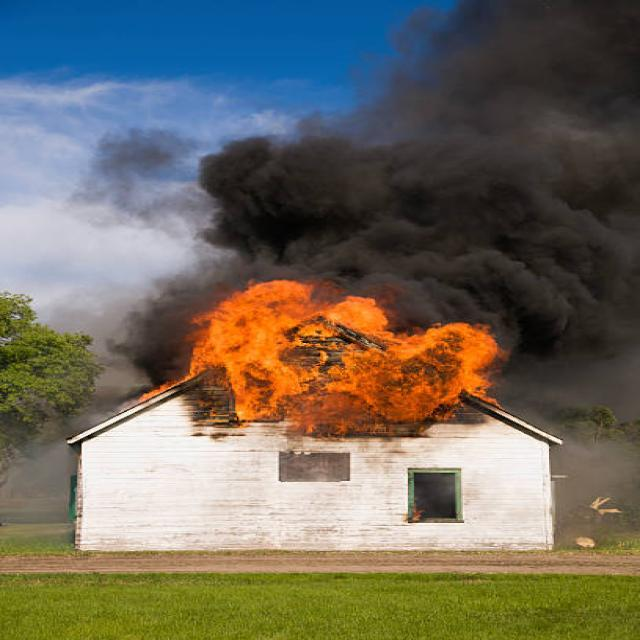Fire: (202, 283, 520, 422)
Smoke: (379, 0, 640, 370), (150, 136, 516, 336)
